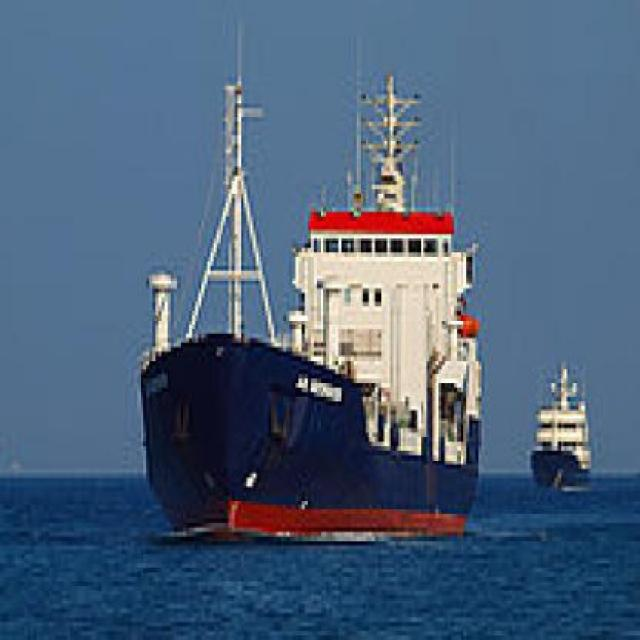container: (129, 64, 483, 547)
